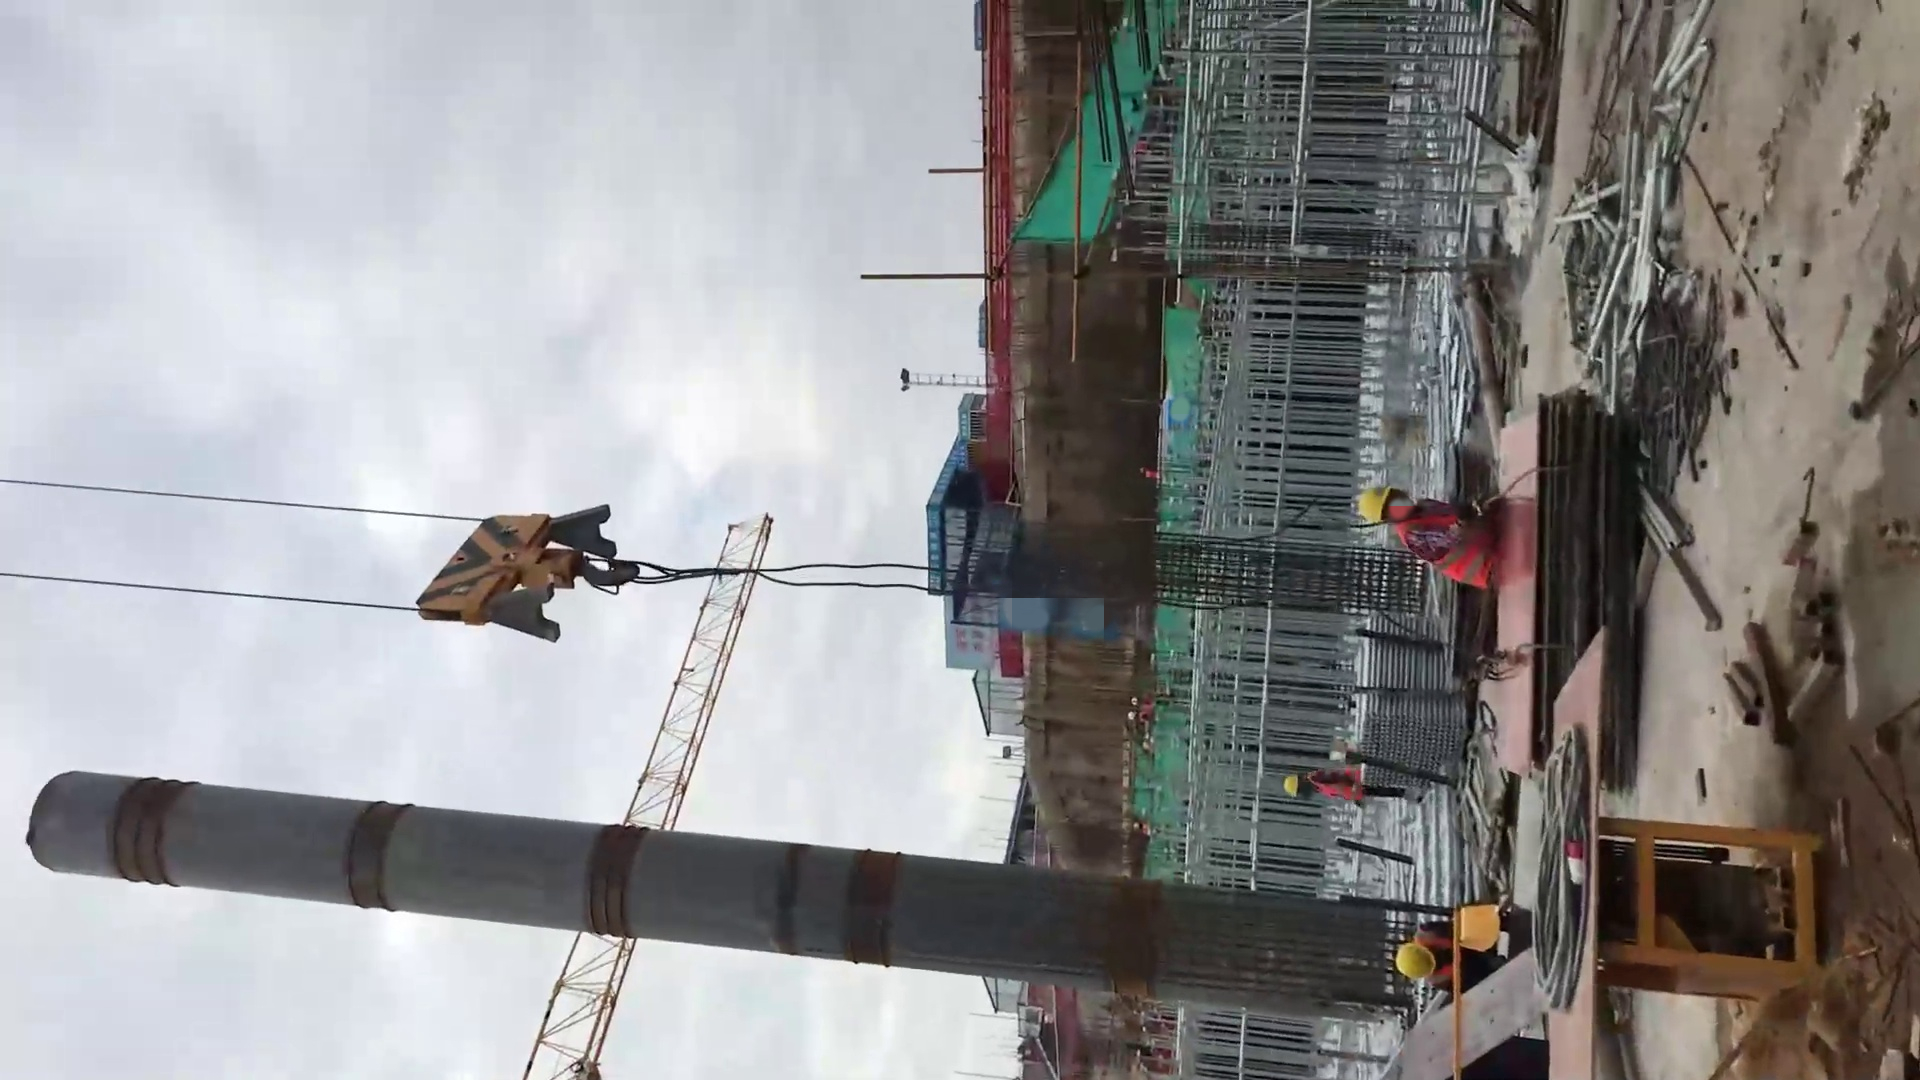board: (1502, 393, 1644, 783)
cutter: (1449, 625, 1830, 1080)
helmet: (1395, 939, 1435, 984), (1354, 482, 1393, 527), (1281, 771, 1300, 797), (1127, 709, 1138, 720)
hook: (413, 495, 642, 646)
person: (1354, 483, 1498, 595), (1278, 763, 1424, 805), (1391, 919, 1456, 996)
scaffold: (1357, 614, 1462, 790)
slogan: (928, 392, 975, 603), (951, 603, 990, 661)
vest: (1391, 508, 1500, 592), (1411, 923, 1456, 991), (1302, 762, 1365, 804), (1138, 702, 1153, 723), (1144, 470, 1158, 479)
